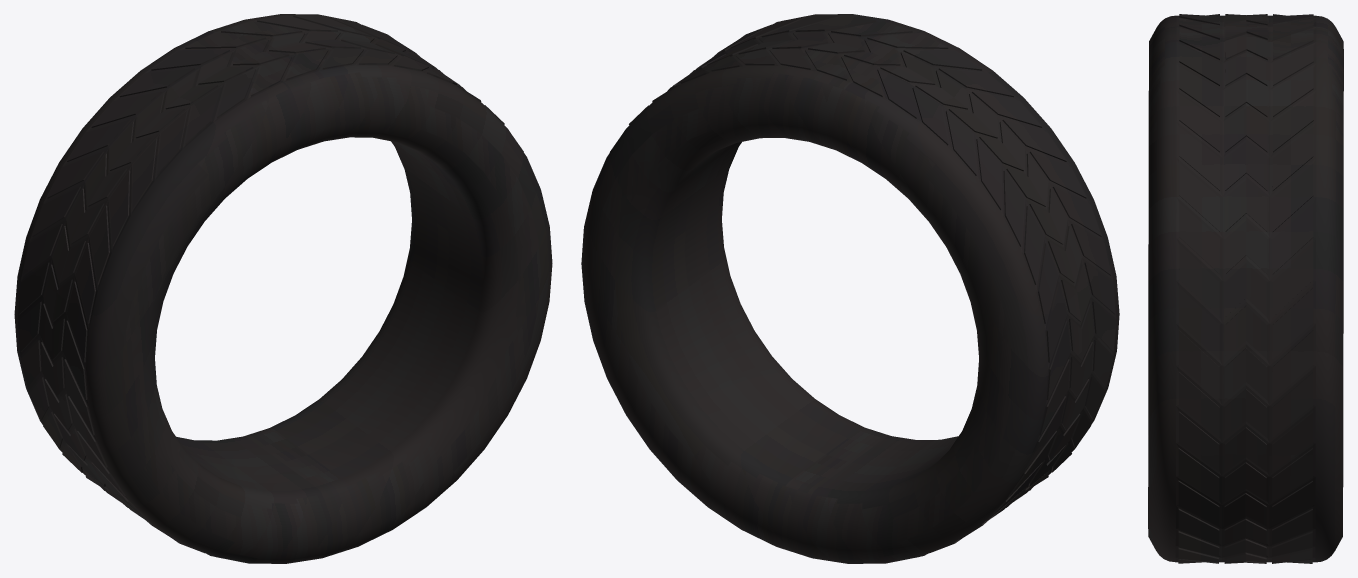
Rendered from Pneu.fbx.
3 renders of one model, left to right at view 1: azimuth 30°, elevation 25°; view 2: azimuth 150°, elevation 25°; view 3: azimuth 270°, elevation 25°, orthographic. The views are drawn at different scales.
Parts seen in each view (by area): view 1: Tube001; view 2: Tube001; view 3: Tube001.
Part boxes in pixels (x1,y1,x2,y2): Tube001: (14, 14, 552, 563); Tube001: (581, 14, 1119, 563); Tube001: (1148, 14, 1343, 563).
Bounding box in the file's own units: 265 × 265 × 94.4.
1 material, 1 textured.
